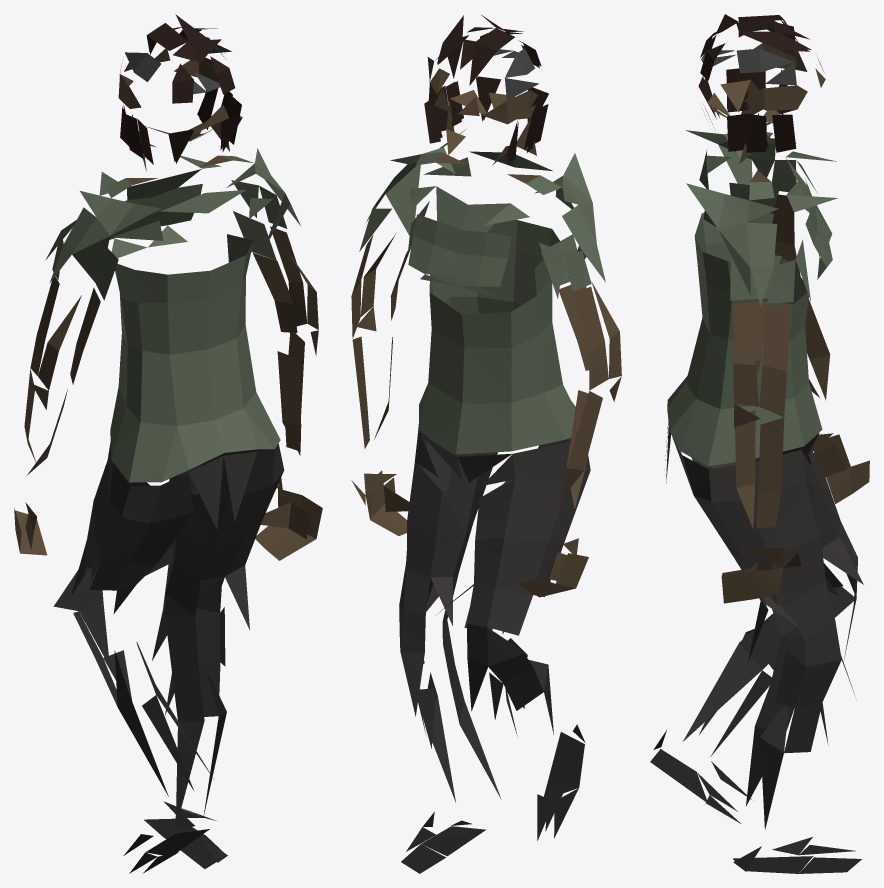
Rendered from personfar_7_w0.fbx.
The picture shows the model from 3 angles, left to right: view 1: azimuth 30°, elevation 25°; view 2: azimuth 150°, elevation 25°; view 3: azimuth 270°, elevation 25°; orthographic projection. The views are drawn at different scales.
Visible parts, largest first — view 1: Female; view 2: Female; view 3: Female.
Boxes of the visible parts, x1=… form: Female: x1=14, y1=14, x2=322, y2=873; Female: x1=351, y1=15, x2=621, y2=873; Female: x1=650, y1=14, x2=869, y2=873.
Size of the model in its own units: 0.3318 by 0.9842 by 0.2337.
